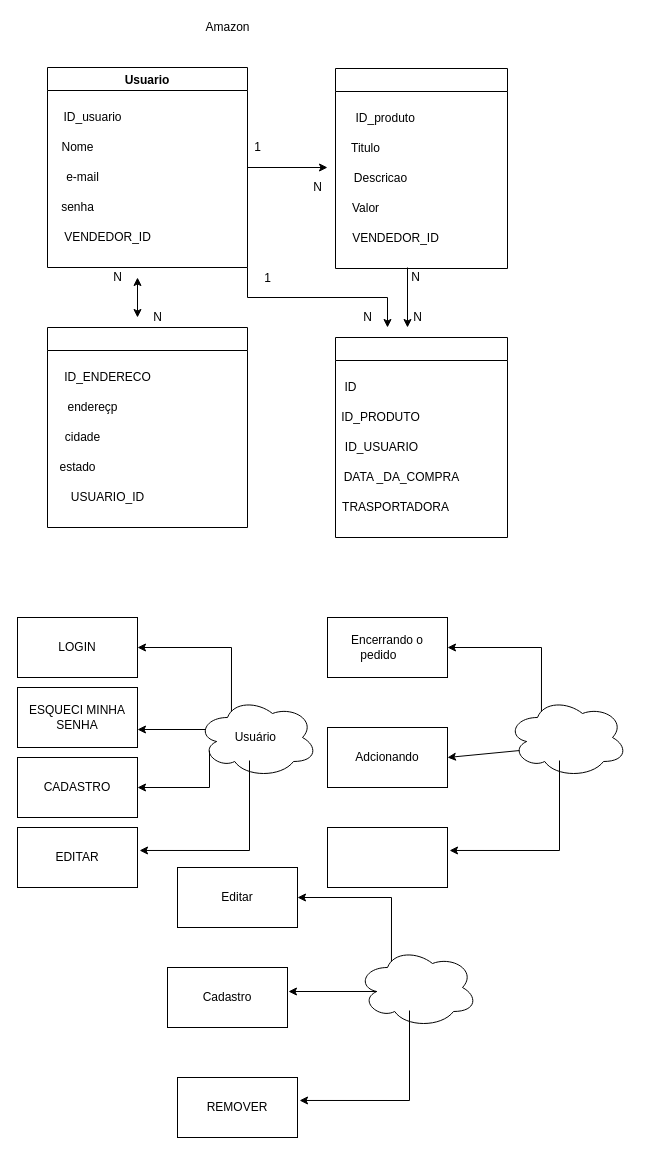
Some shapes in this 645 by 1155 pixel diagram are drawn without their labels. The box of each missing label's shape, as (x1, y1, x2, y2) in pixels:
Endereço: (46, 326, 248, 528)
Pedido: (506, 696, 628, 778)
Pedidos: (334, 336, 508, 538)
Produto: (356, 946, 478, 1028)
Produtos: (334, 68, 508, 268)
